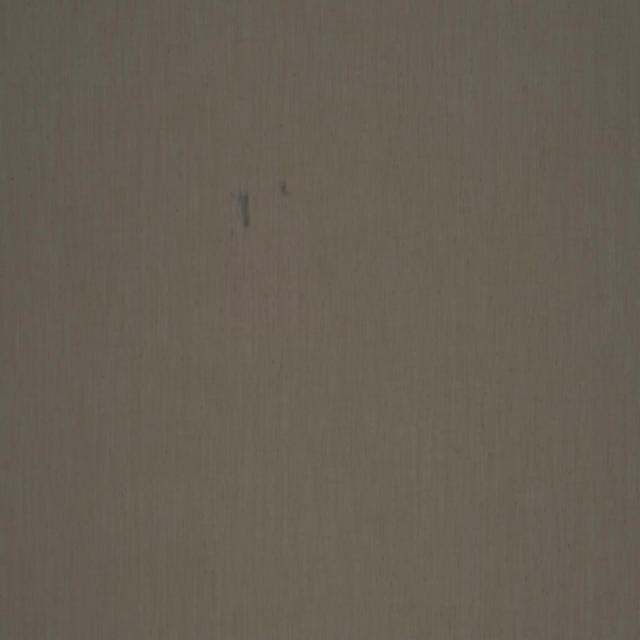dirty: (233, 192, 252, 232), (278, 179, 291, 198)
